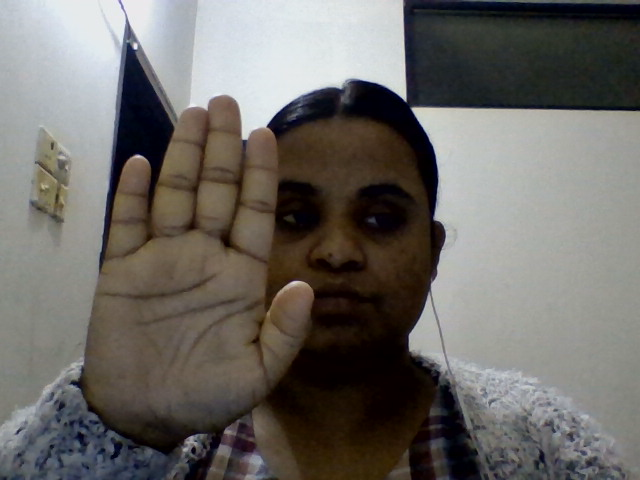hello: (84, 81, 363, 455)
